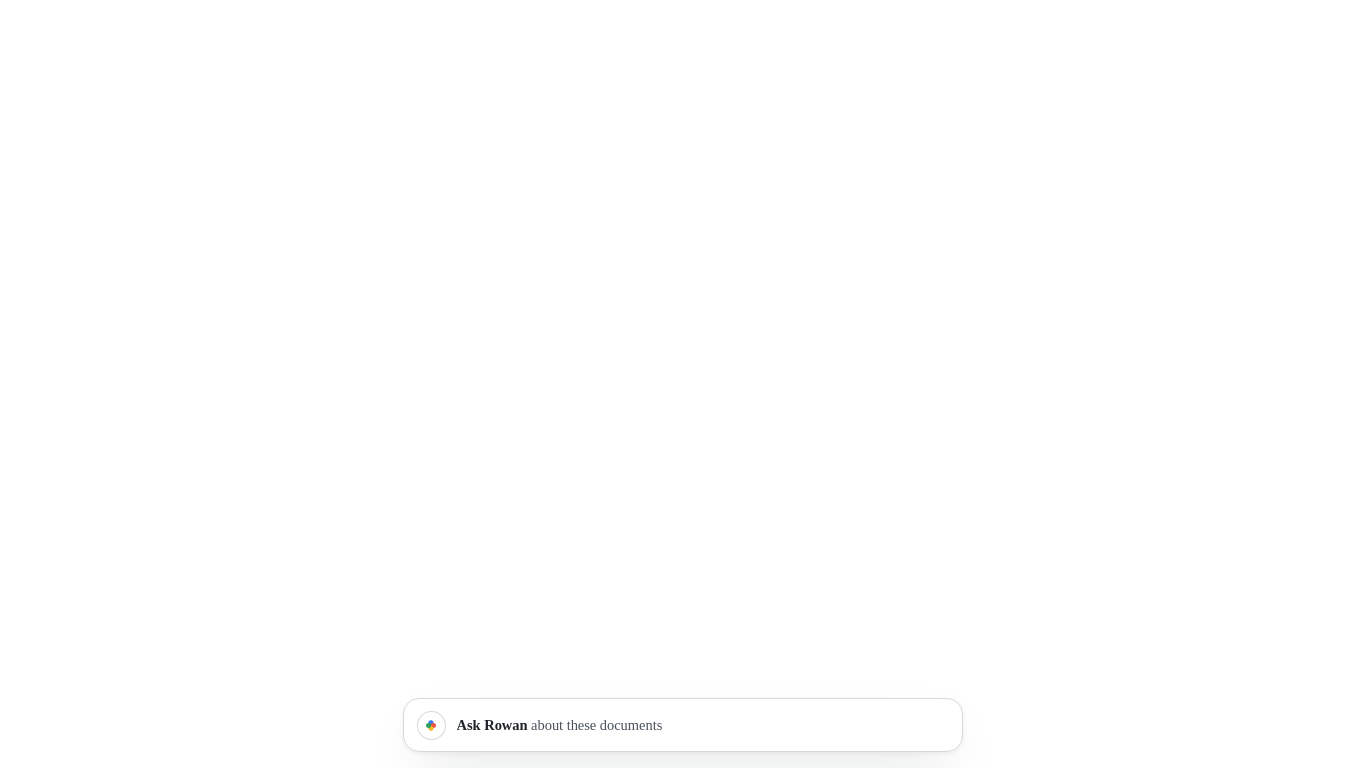
it: HiveHomeSidePanel › Ask bar › names the assistant and opens the sheet
Click the button with test id "ask-bar" at (506, 725), box [403,698,963,752]
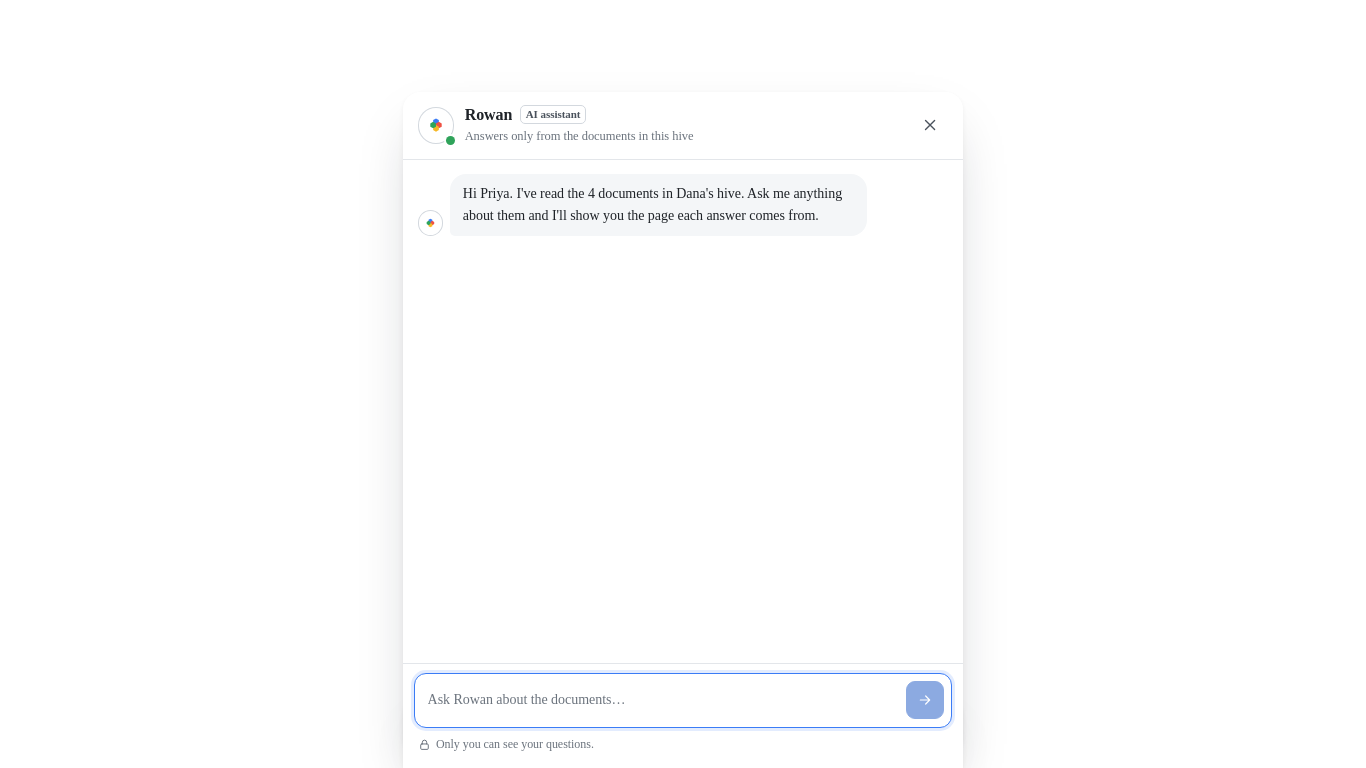
Now the dialog is shown, box [403,92,963,767]
